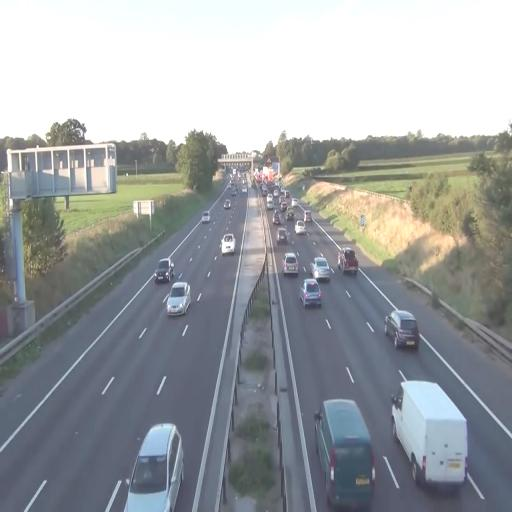vehicle: (390, 373, 468, 490), (390, 374, 468, 490), (314, 397, 375, 510), (124, 422, 184, 512), (384, 308, 420, 350), (166, 280, 191, 317), (301, 278, 322, 310), (154, 258, 174, 285), (311, 256, 331, 282), (340, 249, 358, 276), (282, 250, 299, 276), (220, 233, 236, 255), (294, 216, 306, 235), (201, 210, 211, 222)
